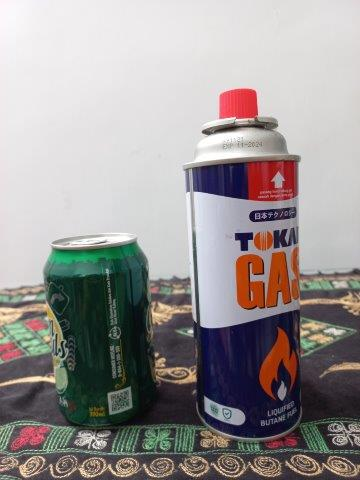kaleng: (184, 87, 303, 438), (43, 234, 158, 429)
